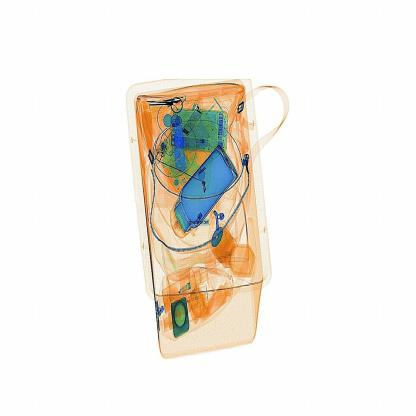pliers: (169, 113, 186, 177)
